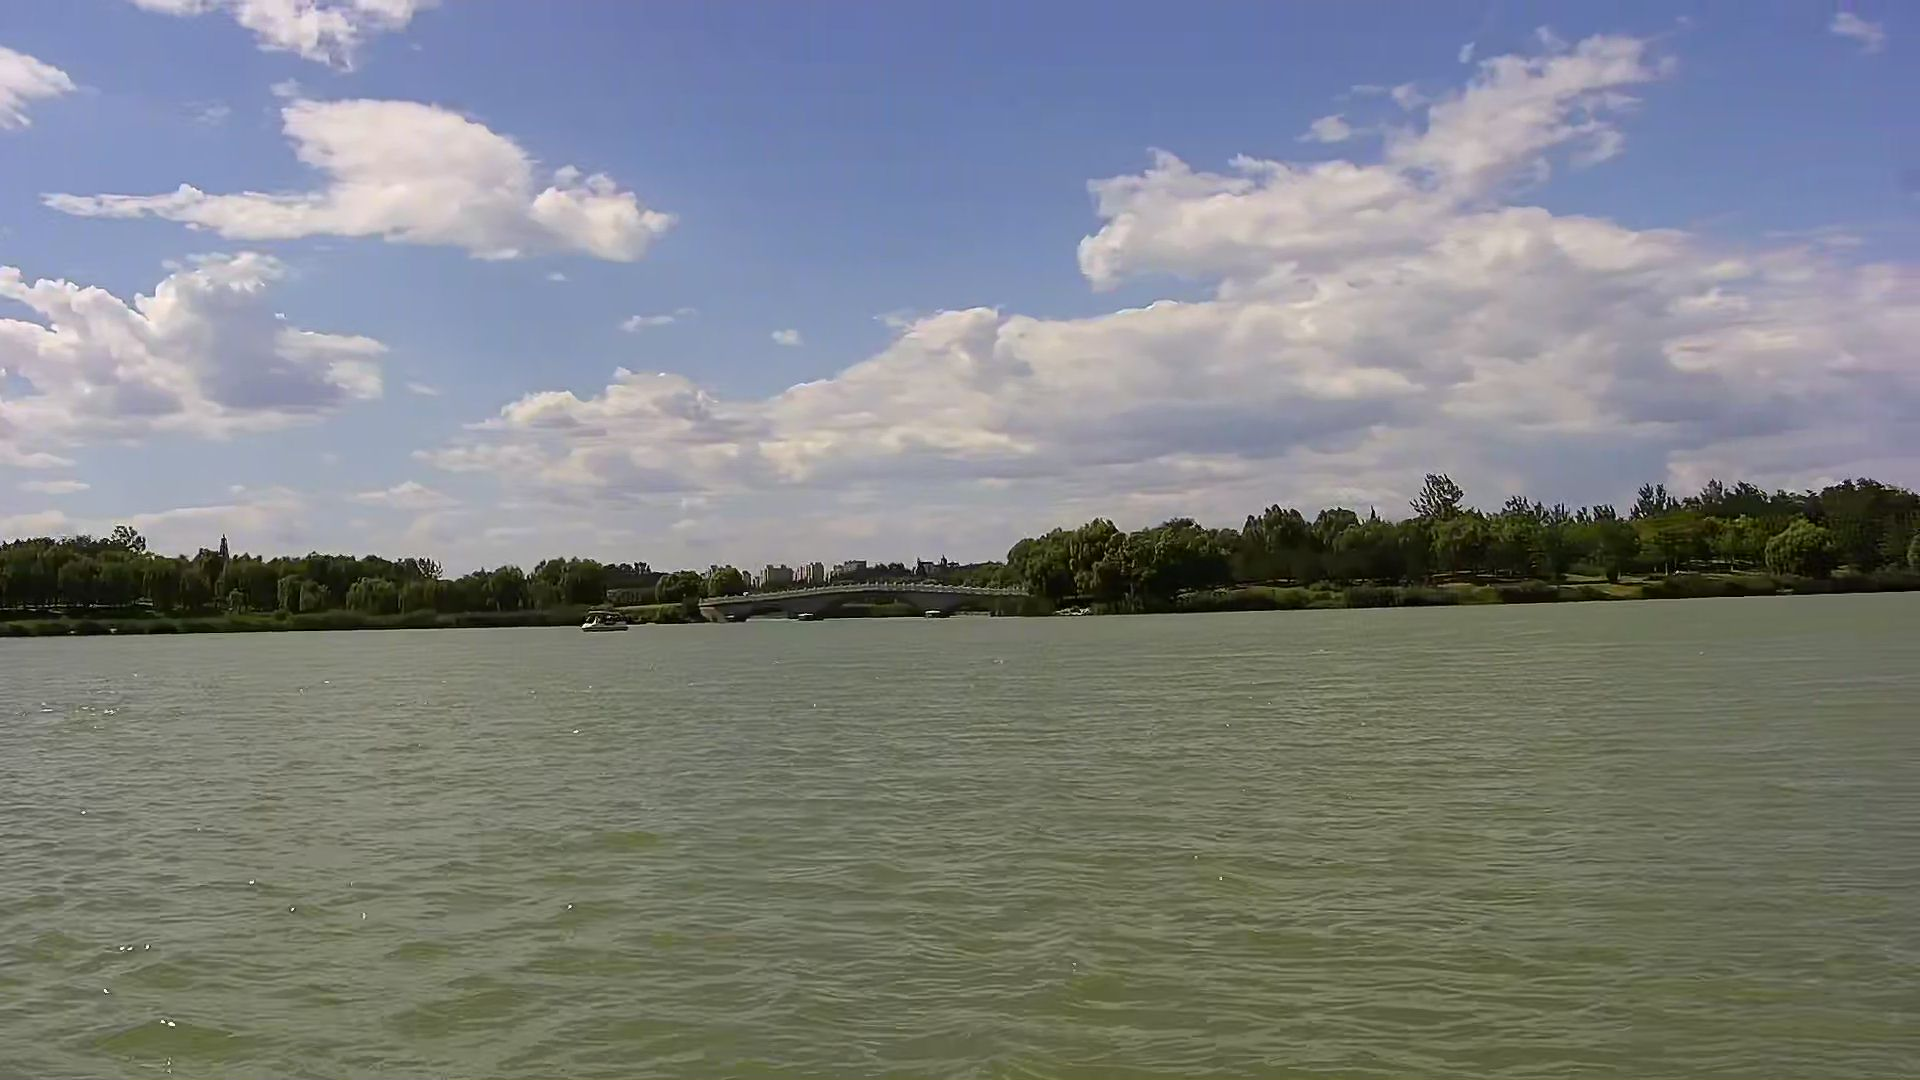boat: (582, 607, 630, 632)
bridge: (707, 583, 1029, 618)
